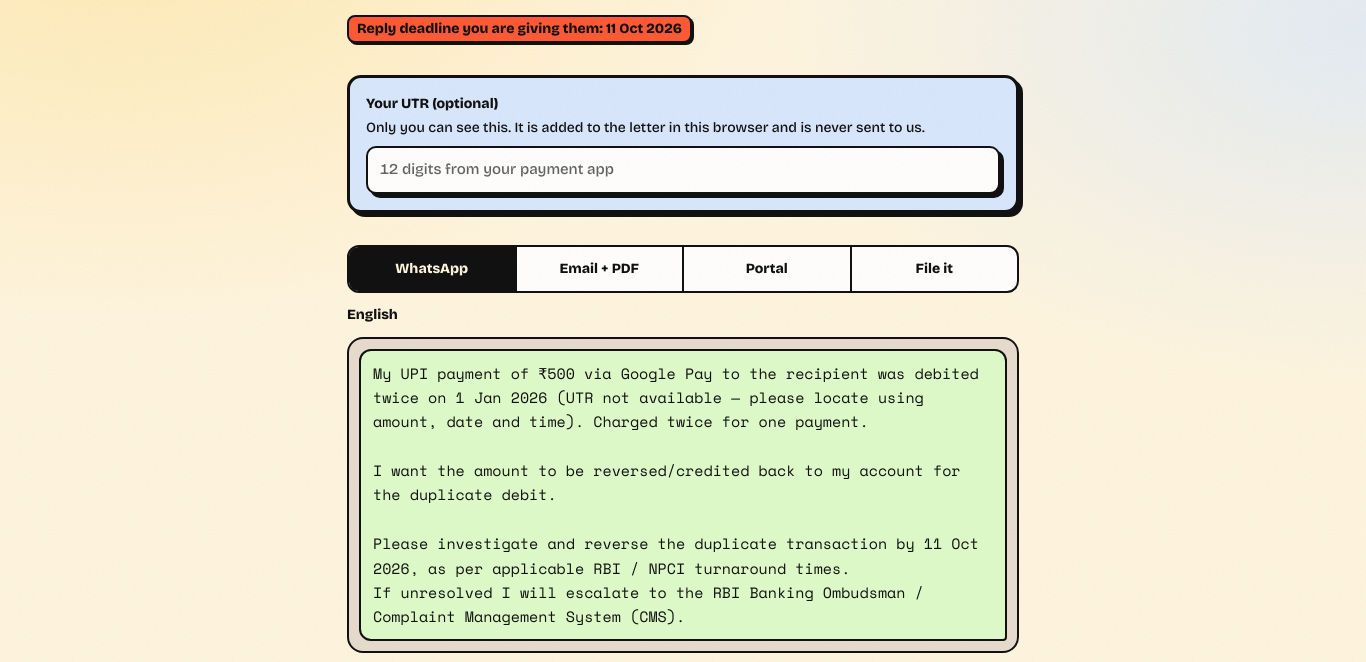
it: PacketView › switches to the Email tab and shows the Download PDF button
The width and height of the screenshot is (1366, 662).
Click the tab "Email + PDF": (600, 268) [516,246,684,290]
(page scrolled)
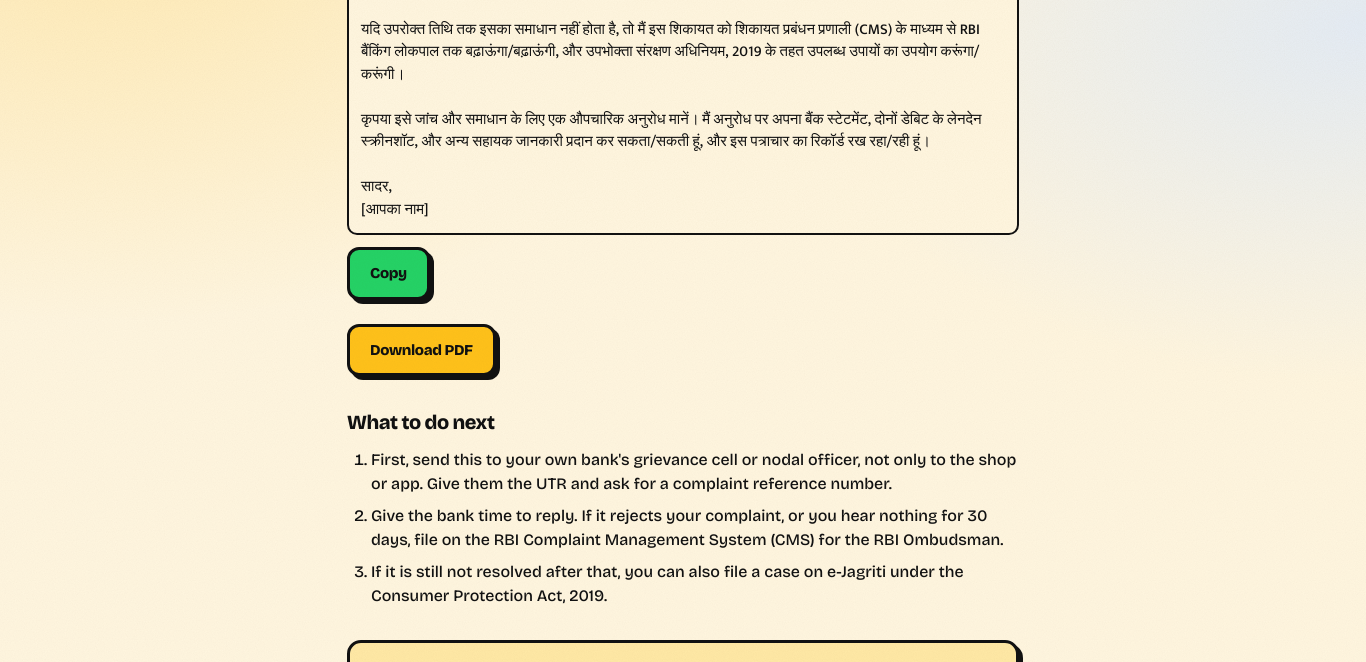
Result: the button "Download PDF" is shown at [347,324,496,376]
